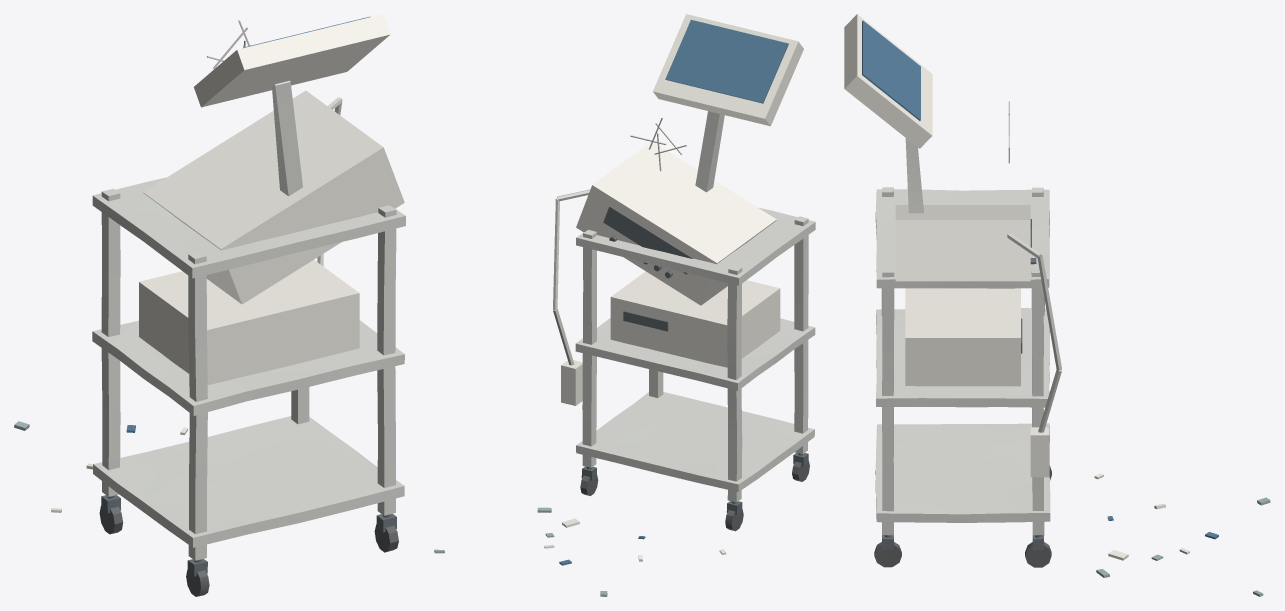
File: therapy_cart_broken.fbx
3 renders of one model, left to right at view 1: azimuth 30°, elevation 25°; view 2: azimuth 150°, elevation 25°; view 3: azimuth 270°, elevation 25°, orthographic. The views are drawn at different scales.
Parts seen in each view (by area): view 1: therapy_cart_broken; view 2: therapy_cart_broken, therapy_cart_broken_debris; view 3: therapy_cart_broken, therapy_cart_broken_debris.
Part boxes in pixels (<box>): therapy_cart_broken: <box>92,14,405,596</box>; therapy_cart_broken: <box>553,14,815,531</box>; therapy_cart_broken_debris: <box>434,507,726,596</box>; therapy_cart_broken: <box>844,14,1061,567</box>; therapy_cart_broken_debris: <box>1094,473,1270,596</box>.
Bounding box in the file's own units: 74.89 × 138 × 110.
